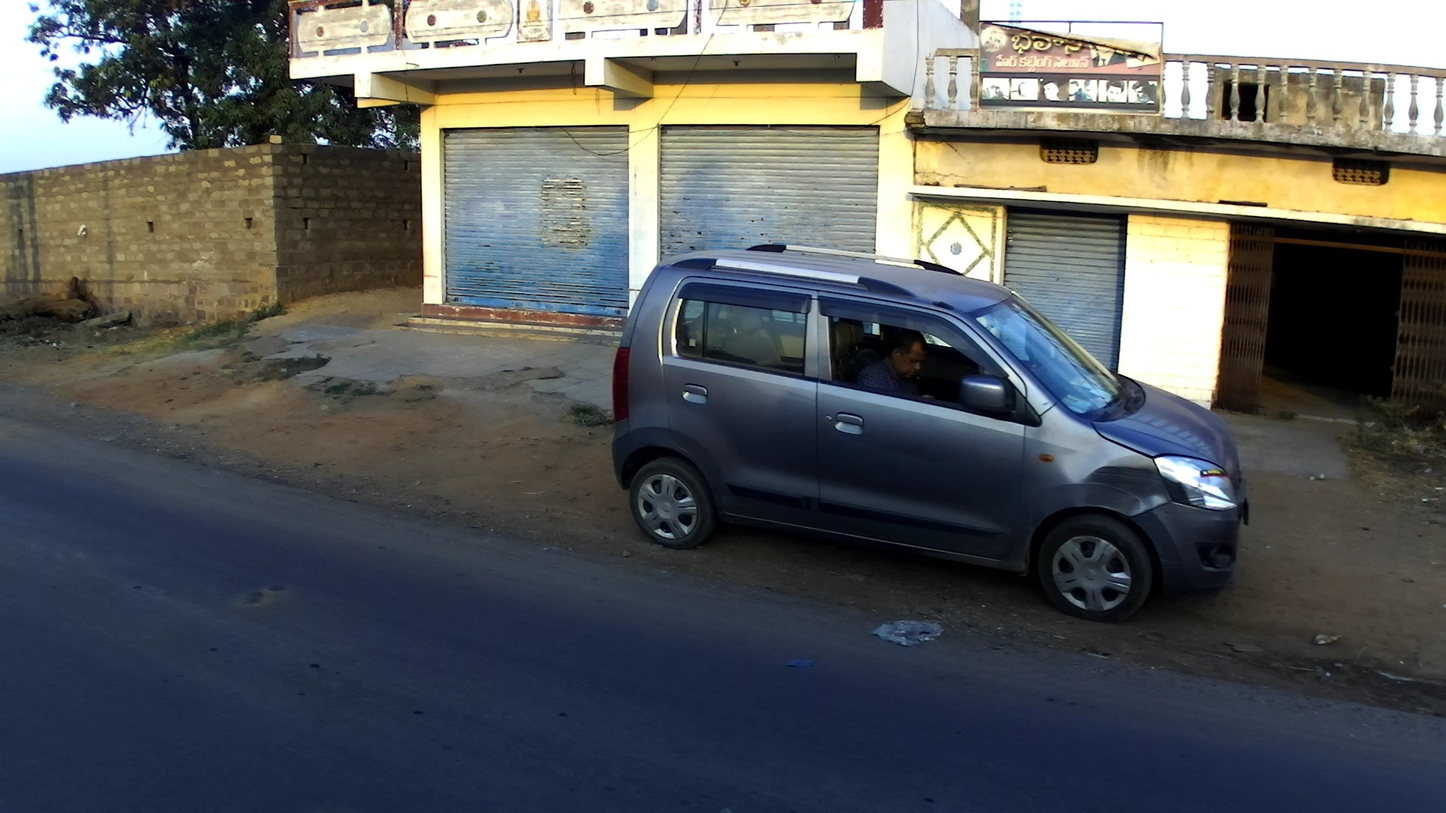car: (610, 237, 1250, 626)
